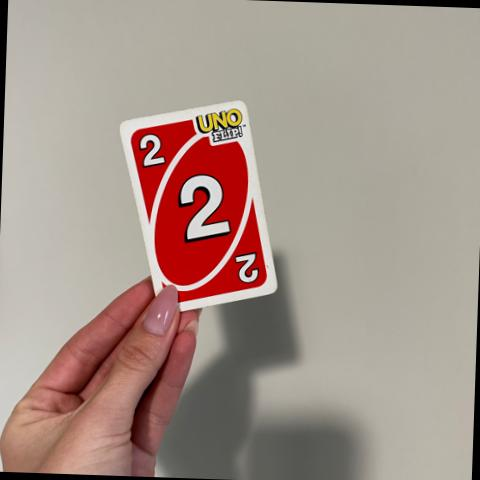lred-2: (131, 126, 176, 176)
